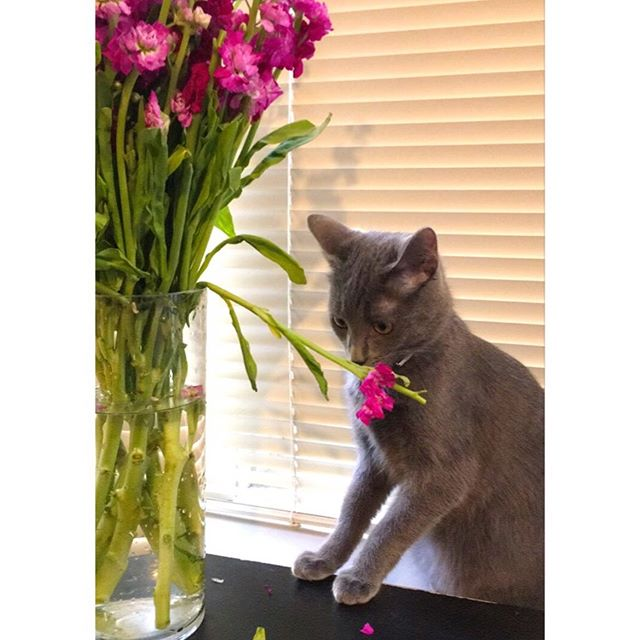cat: (307, 204, 478, 375)
